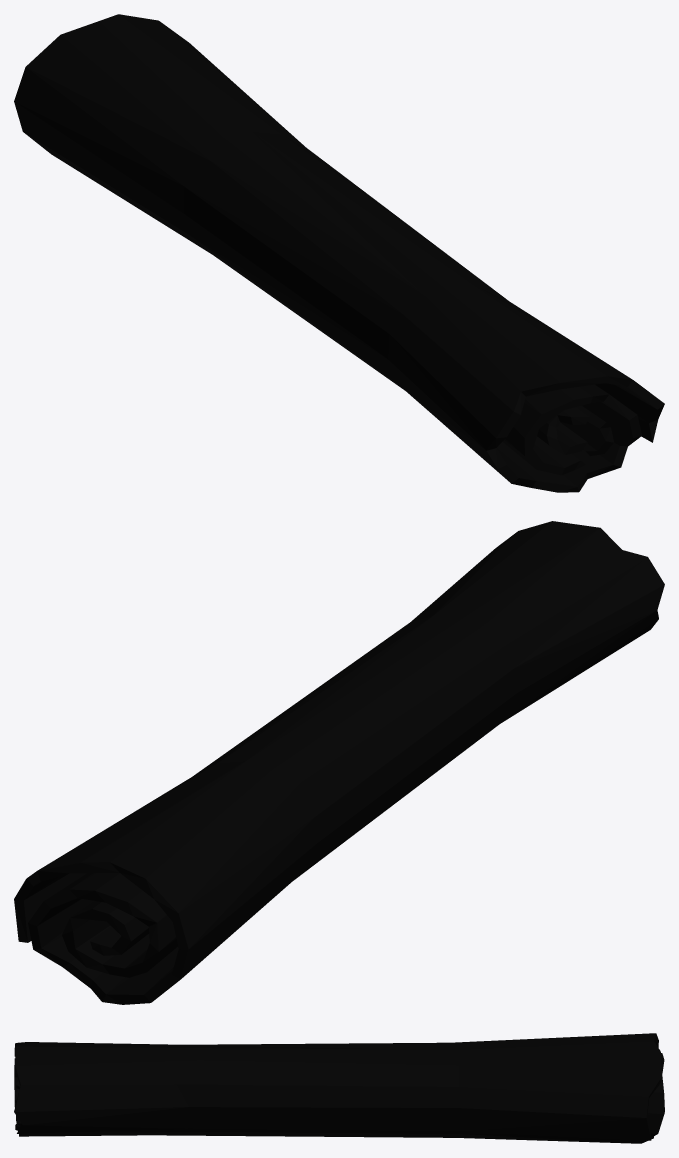
The model's file is Cloth 03.fbx.
3 views of the same model, one above another, from view 1: azimuth 30°, elevation 25°; view 2: azimuth 150°, elevation 25°; view 3: azimuth 270°, elevation 25° (orthographic). The views are drawn at different scales.
Parts seen in each view (by area): view 1: Cloth 03; view 2: Cloth 03; view 3: Cloth 03.
Boxes of the visible parts, x1,y1,x2,y2 form: Cloth 03: (14,14,664,492); Cloth 03: (14,521,664,1004); Cloth 03: (14,1033,664,1143).
Size of the model in its own units: 38.92 by 28.62 by 179.
